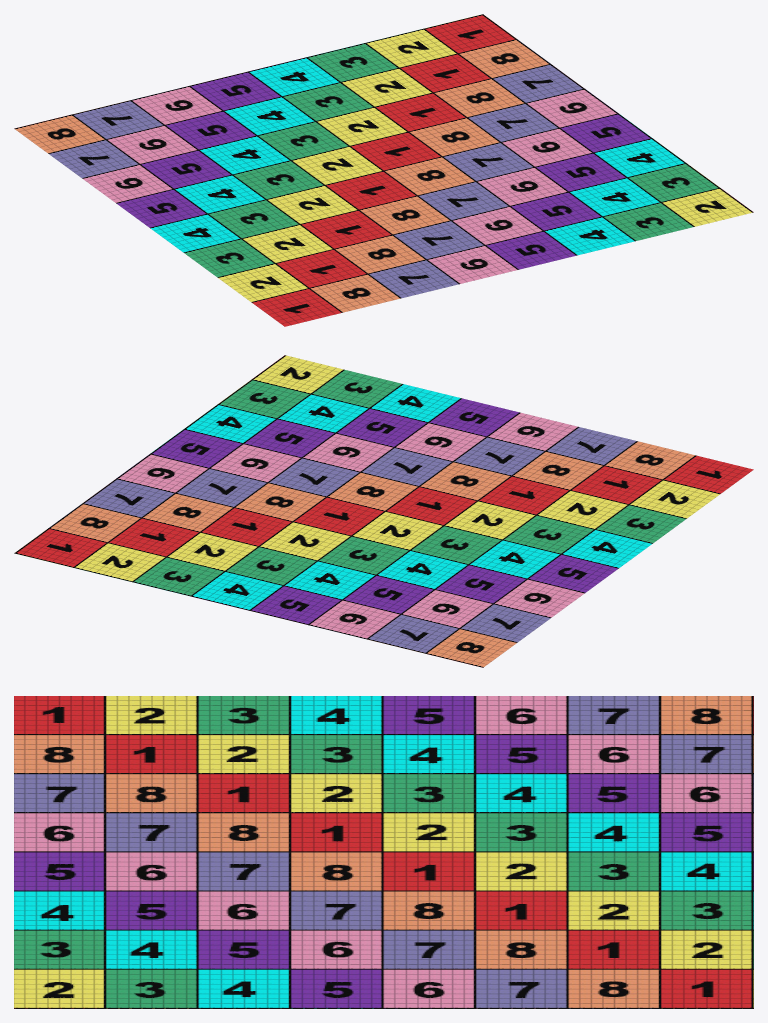
Rendered from watertess_ring1_edge.fbx.
The picture shows the model from 3 angles, top to bottom: view 1: azimuth 30°, elevation 25°; view 2: azimuth 150°, elevation 25°; view 3: azimuth 270°, elevation 25°; orthographic projection. The views are drawn at different scales.
Visible parts, largest first — view 1: watertess_ring1_edge; view 2: watertess_ring1_edge; view 3: watertess_ring1_edge.
Boxes of the visible parts, x1,y1,x2,y2 form: watertess_ring1_edge: [14, 14, 753, 326]; watertess_ring1_edge: [14, 355, 753, 667]; watertess_ring1_edge: [14, 696, 753, 1008].
Bounding box in the file's own units: 128 × 2.09e-05 × 128.
